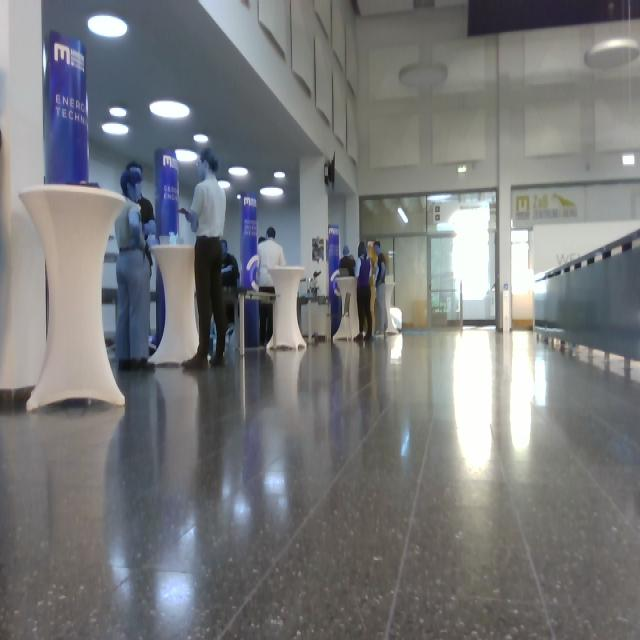door: (511, 228, 534, 329)
light bulb: (584, 37, 640, 70), (399, 62, 448, 89), (88, 15, 128, 39), (150, 100, 190, 120), (102, 122, 129, 136), (175, 149, 198, 162), (260, 186, 284, 197), (229, 166, 249, 177), (109, 107, 127, 119), (398, 206, 409, 224), (193, 133, 209, 144), (218, 180, 231, 189), (274, 171, 286, 179)
person: (179, 148, 227, 370), (115, 168, 156, 372), (257, 227, 287, 347), (354, 241, 374, 341)
pillar: (19, 182, 127, 412)
staircase: (532, 227, 640, 375)
tiled floor: (1, 324, 639, 638)
